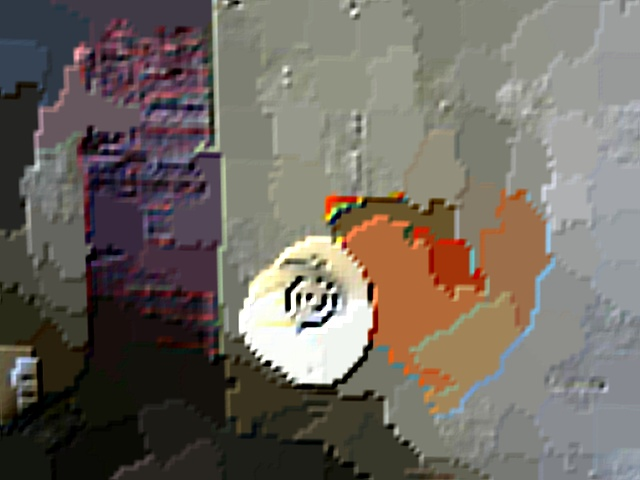three: (286, 277, 335, 329)
